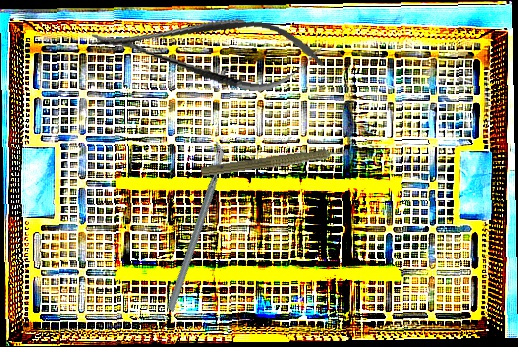Chopper: (111, 140, 279, 314)
Handpiece: (200, 143, 354, 183)
Micro Scissor: (87, 0, 328, 99)
